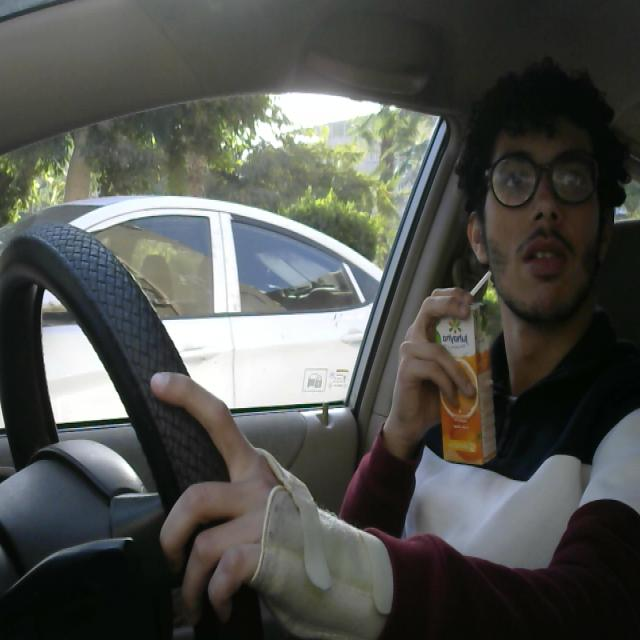drinking: (426, 269, 496, 471)
